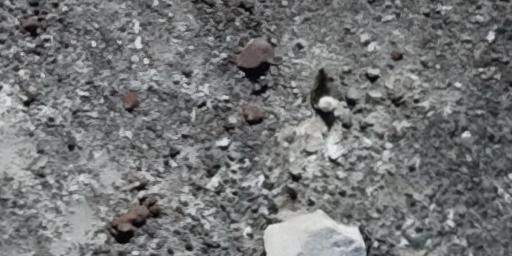skua: (298, 64, 348, 132)
